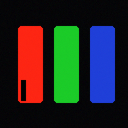4 line_v: (21, 80, 25, 100)
